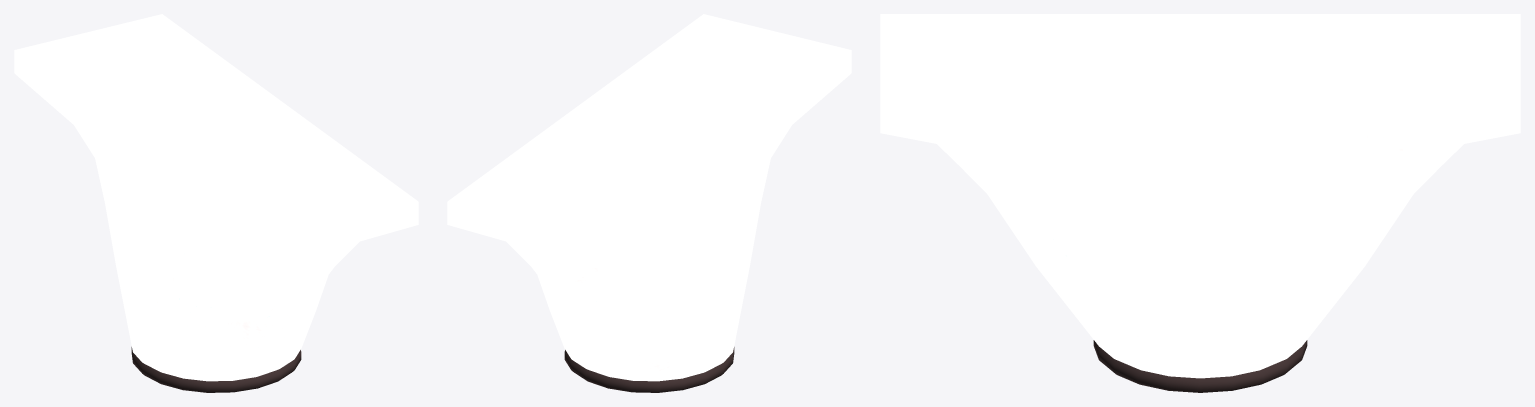
File: 021_022_pillar_capital.glb
The picture shows the model from 3 angles, left to right: view 1: azimuth 30°, elevation 25°; view 2: azimuth 150°, elevation 25°; view 3: azimuth 270°, elevation 25°; orthographic projection. The views are drawn at different scales.
Parts seen in each view (by area): view 1: capital; view 2: capital; view 3: capital.
Part boxes in pixels (bbox=[...]): capital: bbox=[14, 14, 418, 392]; capital: bbox=[447, 14, 851, 392]; capital: bbox=[880, 14, 1520, 392].
Size of the model in its own units: 0.75 by 1.12 by 2.25.
Materials: 2 (1 with a texture image).
